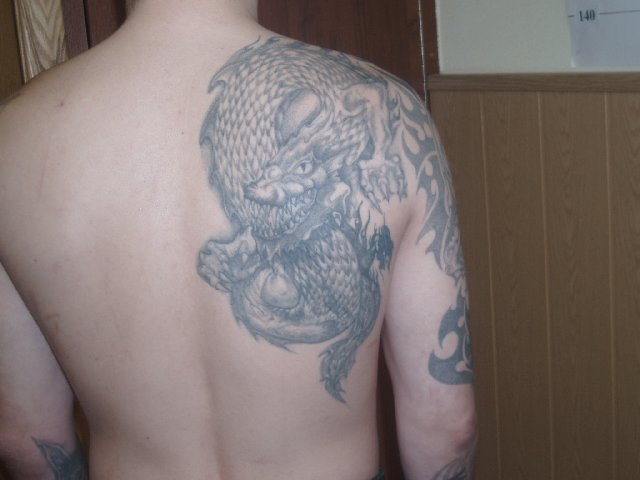tatu6_drakon: (193, 23, 453, 413)
